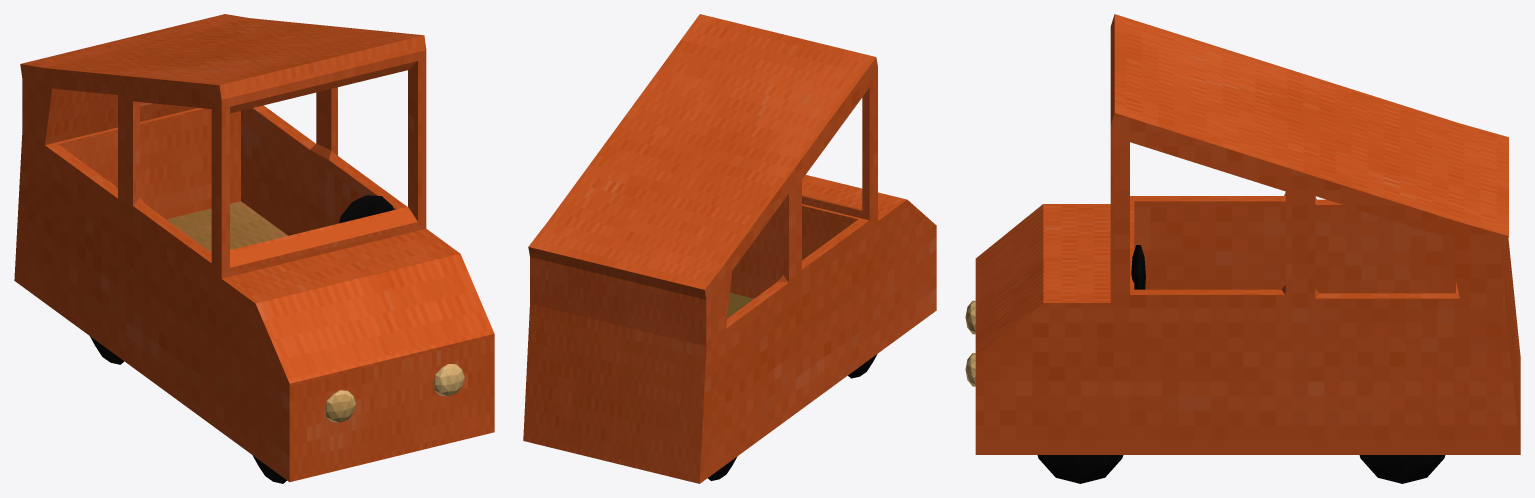
File: Macchina_Rossa.fbx
The picture shows the model from 3 angles, left to right: view 1: azimuth 30°, elevation 25°; view 2: azimuth 150°, elevation 25°; view 3: azimuth 270°, elevation 25°; orthographic projection. The views are drawn at different scales.
Parts seen in each view (by area): view 1: Icosphere.005; view 2: Icosphere.005; view 3: Icosphere.005.
Part boxes in pixels (box(x1,y1,x2,y2)): Icosphere.005: box(14, 14, 494, 483); Icosphere.005: box(523, 14, 936, 483); Icosphere.005: box(965, 14, 1520, 483).
Size of the model in its own units: 0.0592 by 0.1084 by 0.1403.
Materials: 4 (3 with a texture image).
